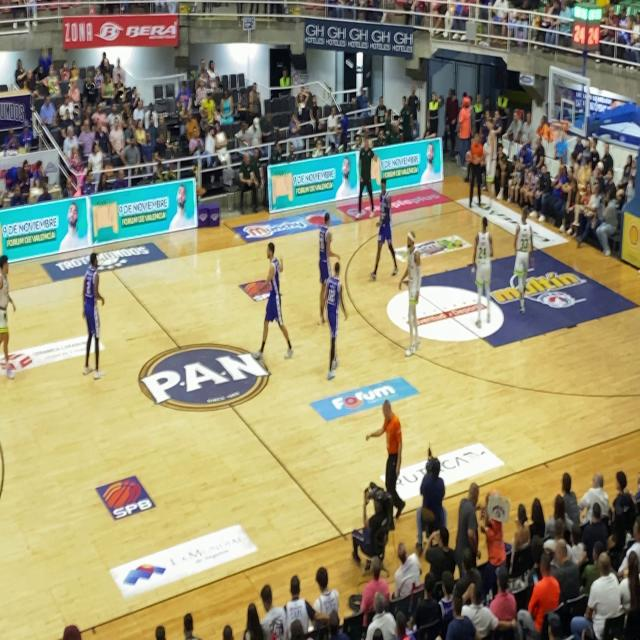team1: (508, 201, 535, 315), (0, 244, 18, 406)
team2: (257, 226, 287, 372), (76, 248, 110, 375), (317, 249, 348, 370)
ubasket: (549, 115, 566, 149)
